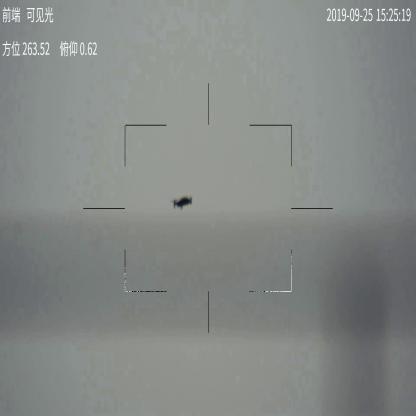uav: (173, 196, 194, 212)
